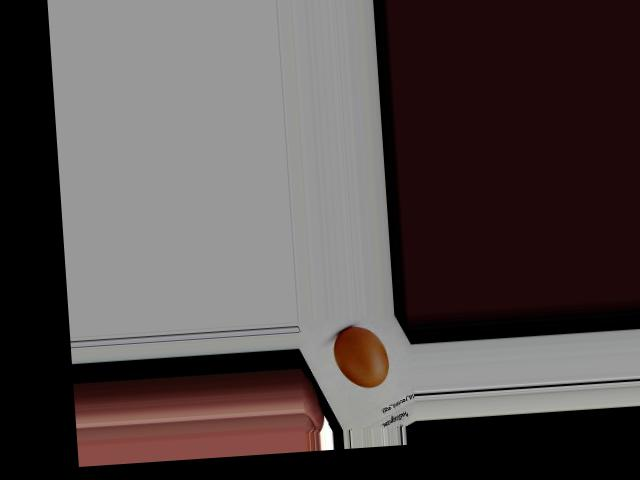egg: (332, 324, 389, 389)
